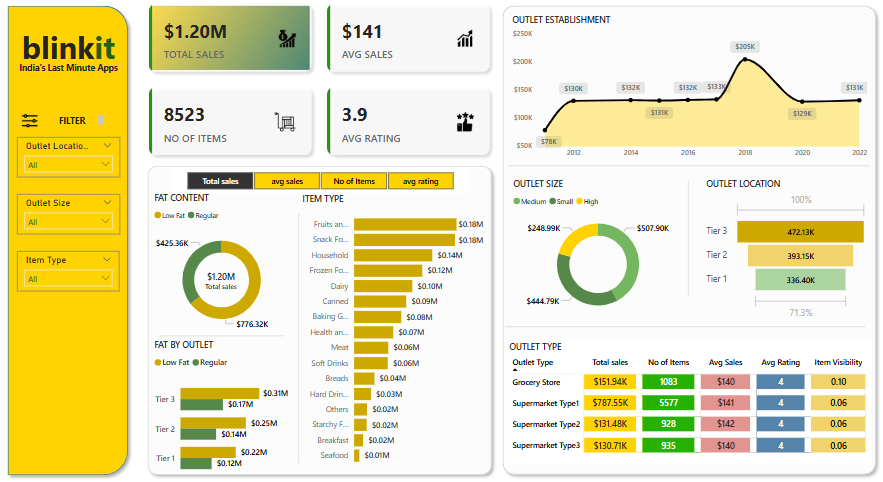

The page's visual inventory and layout, read from the dashboard file:
{"tool":"powerbi","page":{"name":"Page 1","canvas":[1400,800],"ordinal":0},"visuals":[{"type":"shape","box":[17,24.7,205.4,750.6],"z":0},{"type":"textbox","box":[32.4,58.7,176.1,74.1],"z":1000},{"type":"textbox","box":[32.4,117.4,176.1,30.9],"z":2000},{"type":"cardVisual","fields":{"Data":["BlinkIT Grocery Data.Total sales","BlinkIT Grocery Data.avg sales","BlinkIT Grocery Data.No of Items","BlinkIT Grocery Data.avg rating"]},"box":[229.9,13.4,567.2,270.1],"z":3000},{"type":"shape","box":[236.3,274.9,554.4,500],"z":4000},{"type":"donutChart","title":"FAT CONTENT","fields":{"Y":["BlinkIT Grocery Data.Total sales"],"Category":["BlinkIT Grocery Data.Item Fat Content"]},"box":[249.5,324.1,220.4,230.1],"z":5000},{"type":"slicer","fields":{"Values":["Metrics.Metrics"]},"box":[281.1,287.3,464.9,40.2],"z":6000},{"type":"cardVisual","fields":{"Data":["BlinkIT Grocery Data.Total sales"]},"box":[315.5,431.1,87.4,56.3],"z":7000},{"type":"clusteredBarChart","title":"FAT BY OUTLET","fields":{"Y":["BlinkIT Grocery Data.Total sales"],"Category":["BlinkIT Grocery Data.Outlet Location Type"],"Series":["BlinkIT Grocery Data.Item Fat Content"]},"box":[249.5,554.2,218.8,228.5],"z":8000},{"type":"shape","box":[262.7,541.8,194,14.9],"z":9000},{"type":"clusteredBarChart","title":"ITEM TYPE","fields":{"Y":["BlinkIT Grocery Data.Total sales"],"Category":["BlinkIT Grocery Data.Item Type"]},"box":[480.6,326.9,292.5,434.3],"z":10000},{"type":"shape","box":[470.1,359.7,20.9,389.6],"z":11000},{"type":"shape","box":[789.6,25.4,600,749.3],"z":12000},{"type":"lineChart","title":"OUTLET ESTABLISHMENT","fields":{"Category":["BlinkIT Grocery Data.Outlet Establishment Year"],"Y":["BlinkIT Grocery Data.Total sales"]},"box":[808.6,47,563.9,235],"z":13000},{"type":"shape","box":[808.6,275.5,563.9,17.8],"z":14000},{"type":"donutChart","title":"OUTLET SIZE","fields":{"Y":["BlinkIT Grocery Data.Total sales"],"Category":["BlinkIT Grocery Data.Outlet Size"]},"box":[809.3,303,274.9,225.5],"z":15000},{"type":"shape","box":[1078,307.3,20.1,179.2],"z":16000},{"type":"funnel","title":"OUTLET LOCATION","fields":{"Y":["Sum(BlinkIT Grocery Data.Sales)"],"Category":["BlinkIT Grocery Data.Outlet Location Type"]},"box":[1111.6,302.6,260.9,225.2],"z":17000},{"type":"shape","box":[802.1,526.6,562.3,17.8],"z":18000},{"type":"pivotTable","title":"OUTLET TYPE","fields":{"Rows":["BlinkIT Grocery Data.Outlet Type"],"Values":["BlinkIT Grocery Data.Total sales","BlinkIT Grocery Data.No of Items","BlinkIT Grocery Data.avg sales","BlinkIT Grocery Data.avg rating","Avg(BlinkIT Grocery Data.Item Visibility)"]},"box":[803.7,557.4,570.4,192.8],"z":19000},{"type":"slicer","fields":{"Values":["BlinkIT Grocery Data.Outlet Location Type"]},"box":[40.2,239.4,160.6,63.3],"z":20000},{"type":"slicer","fields":{"Values":["BlinkIT Grocery Data.Outlet Size"]},"box":[40.2,327.4,160.6,63.3],"z":21000},{"type":"slicer","fields":{"Values":["BlinkIT Grocery Data.Item Type"]},"box":[40.5,416.4,160.4,63.2],"z":22000},{"type":"textbox","box":[80,200,101.4,28.6],"z":22001},{"type":"image","box":[40,194.3,40,40],"z":22002}]}

Visuals, with their boxes on the page's 1400x800 design canvas (x1, y1, x2, y2). These are canvas units, not pixel positions in the 883x482 screenshot, which may show the page scaled, cropped or inside an application window:
shape: <box>17,25,222,775</box>
textbox: <box>32,59,208,133</box>
textbox: <box>32,117,208,148</box>
cardVisual - BlinkIT Grocery Data.Total sales x BlinkIT Grocery Data.avg sales: <box>230,13,797,284</box>
shape: <box>236,275,791,775</box>
"FAT CONTENT" donutChart: <box>250,324,470,554</box>
slicer - Metrics.Metrics: <box>281,287,746,328</box>
cardVisual - BlinkIT Grocery Data.Total sales: <box>316,431,403,487</box>
"FAT BY OUTLET" clusteredBarChart: <box>250,554,468,783</box>
shape: <box>263,542,457,557</box>
"ITEM TYPE" clusteredBarChart: <box>481,327,773,761</box>
shape: <box>470,360,491,749</box>
shape: <box>790,25,1390,775</box>
"OUTLET ESTABLISHMENT" lineChart: <box>809,47,1372,282</box>
shape: <box>809,276,1372,293</box>
"OUTLET SIZE" donutChart: <box>809,303,1084,528</box>
shape: <box>1078,307,1098,486</box>
"OUTLET LOCATION" funnel: <box>1112,303,1372,528</box>
shape: <box>802,527,1364,544</box>
"OUTLET TYPE" pivotTable: <box>804,557,1374,750</box>
slicer - BlinkIT Grocery Data.Outlet Location Type: <box>40,239,201,303</box>
slicer - BlinkIT Grocery Data.Outlet Size: <box>40,327,201,391</box>
slicer - BlinkIT Grocery Data.Item Type: <box>40,416,201,480</box>
textbox: <box>80,200,181,229</box>
image: <box>40,194,80,234</box>
